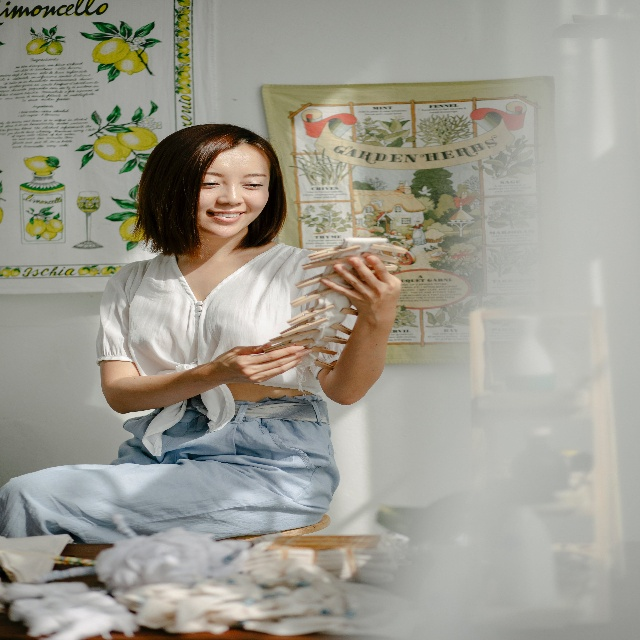Sin_guantes: (319, 249, 402, 331), (214, 340, 312, 383)
